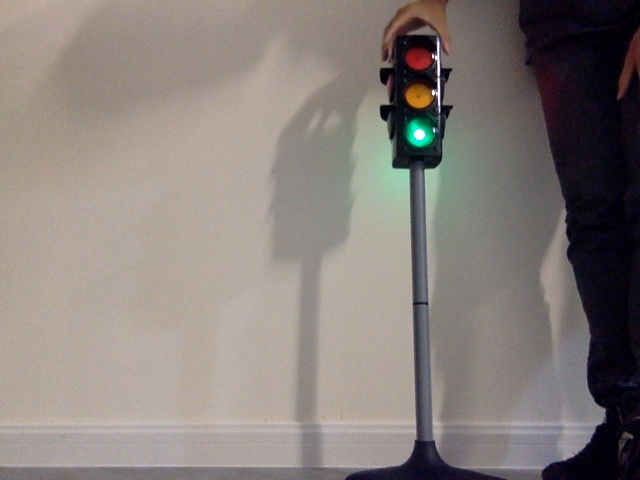green: (398, 41, 433, 155)
